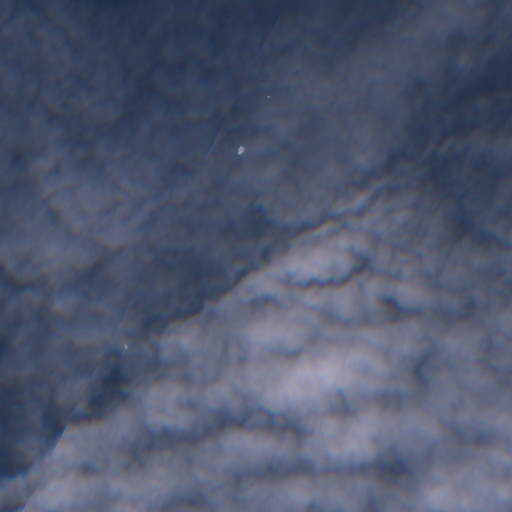Iceberg: (238, 146, 243, 153), (125, 344, 127, 349), (267, 96, 269, 97)
